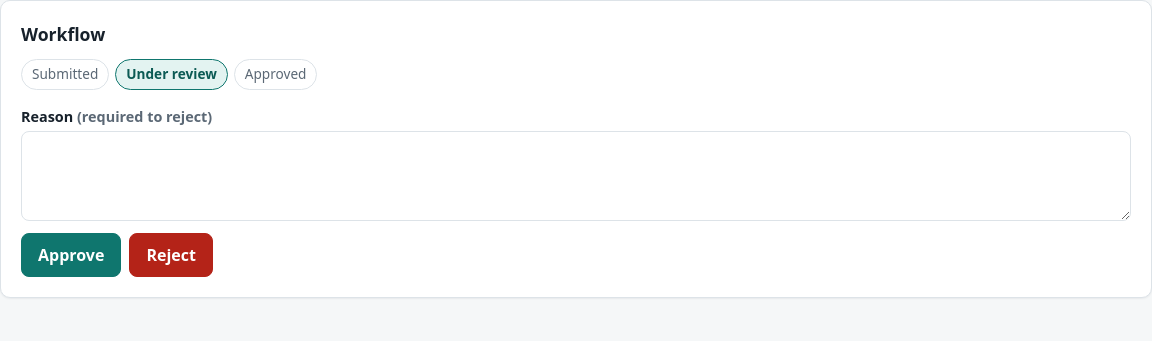
WorkflowActions › requires a reason before rejecting, without calling the API
The image size is (1152, 341).
Click the button "Reject". click: (171,255)
box: [129, 233, 213, 277]
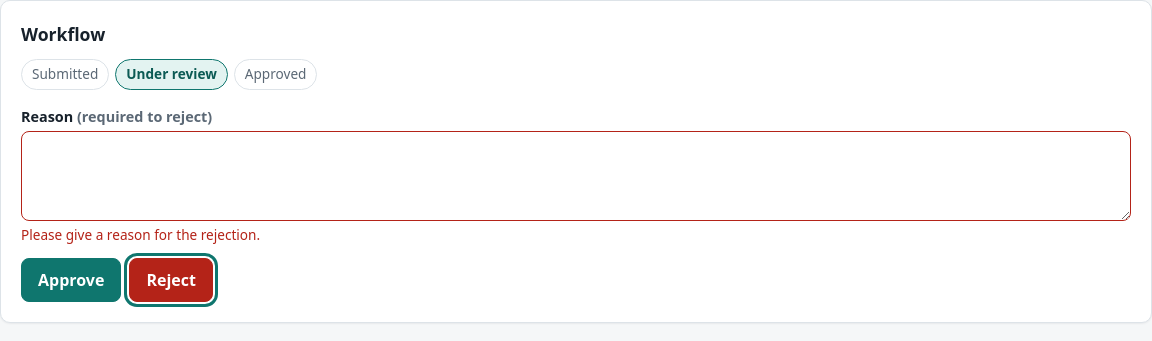
expect the text "Please give a reason for the rejection." is shown: met, box [21, 225, 260, 244]
